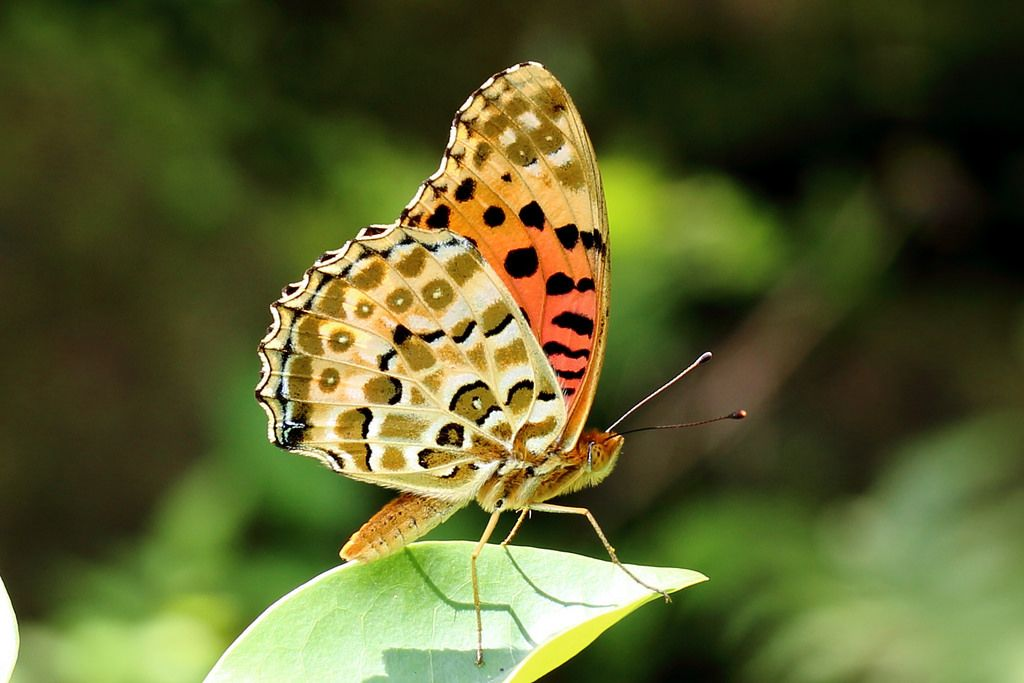Argyreus hyperbius: (257, 51, 765, 664)
butterfly: (259, 53, 767, 666)
